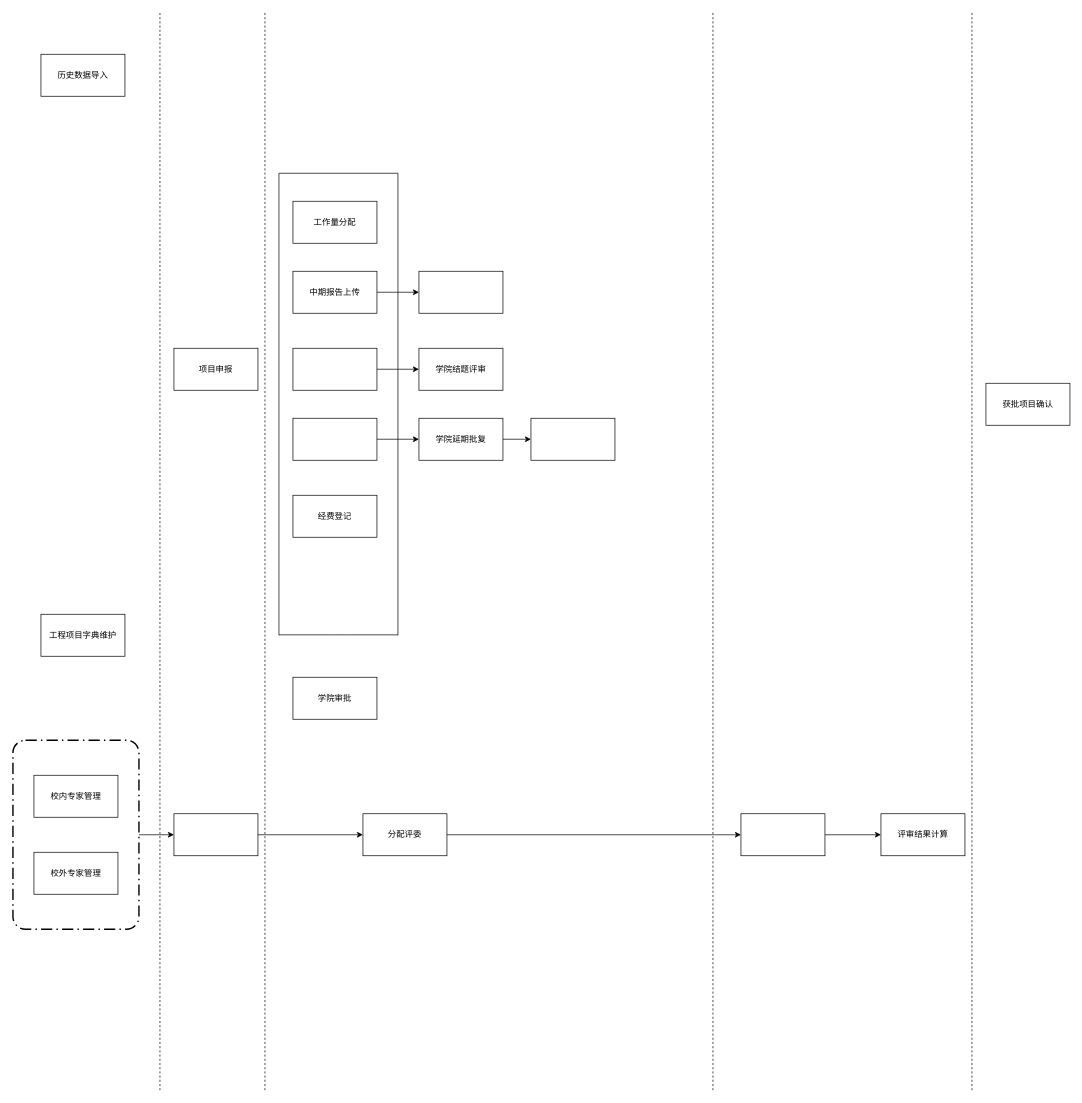
The diagram is 1082 pixels wide and 1103 high, and some of its shapes have lost their labels. Here are the shapes that lost their labels. From the top down, the centre of each, then its label:
At pixel 460 292: "学院中期检查".
At pixel 334 369: "结题报告上传".
At pixel 334 439: "项目延期申请".
At pixel 572 439: "学校延期批复".
At pixel 215 834: "工程项目分配".
At pixel 782 834: "评委打分".
